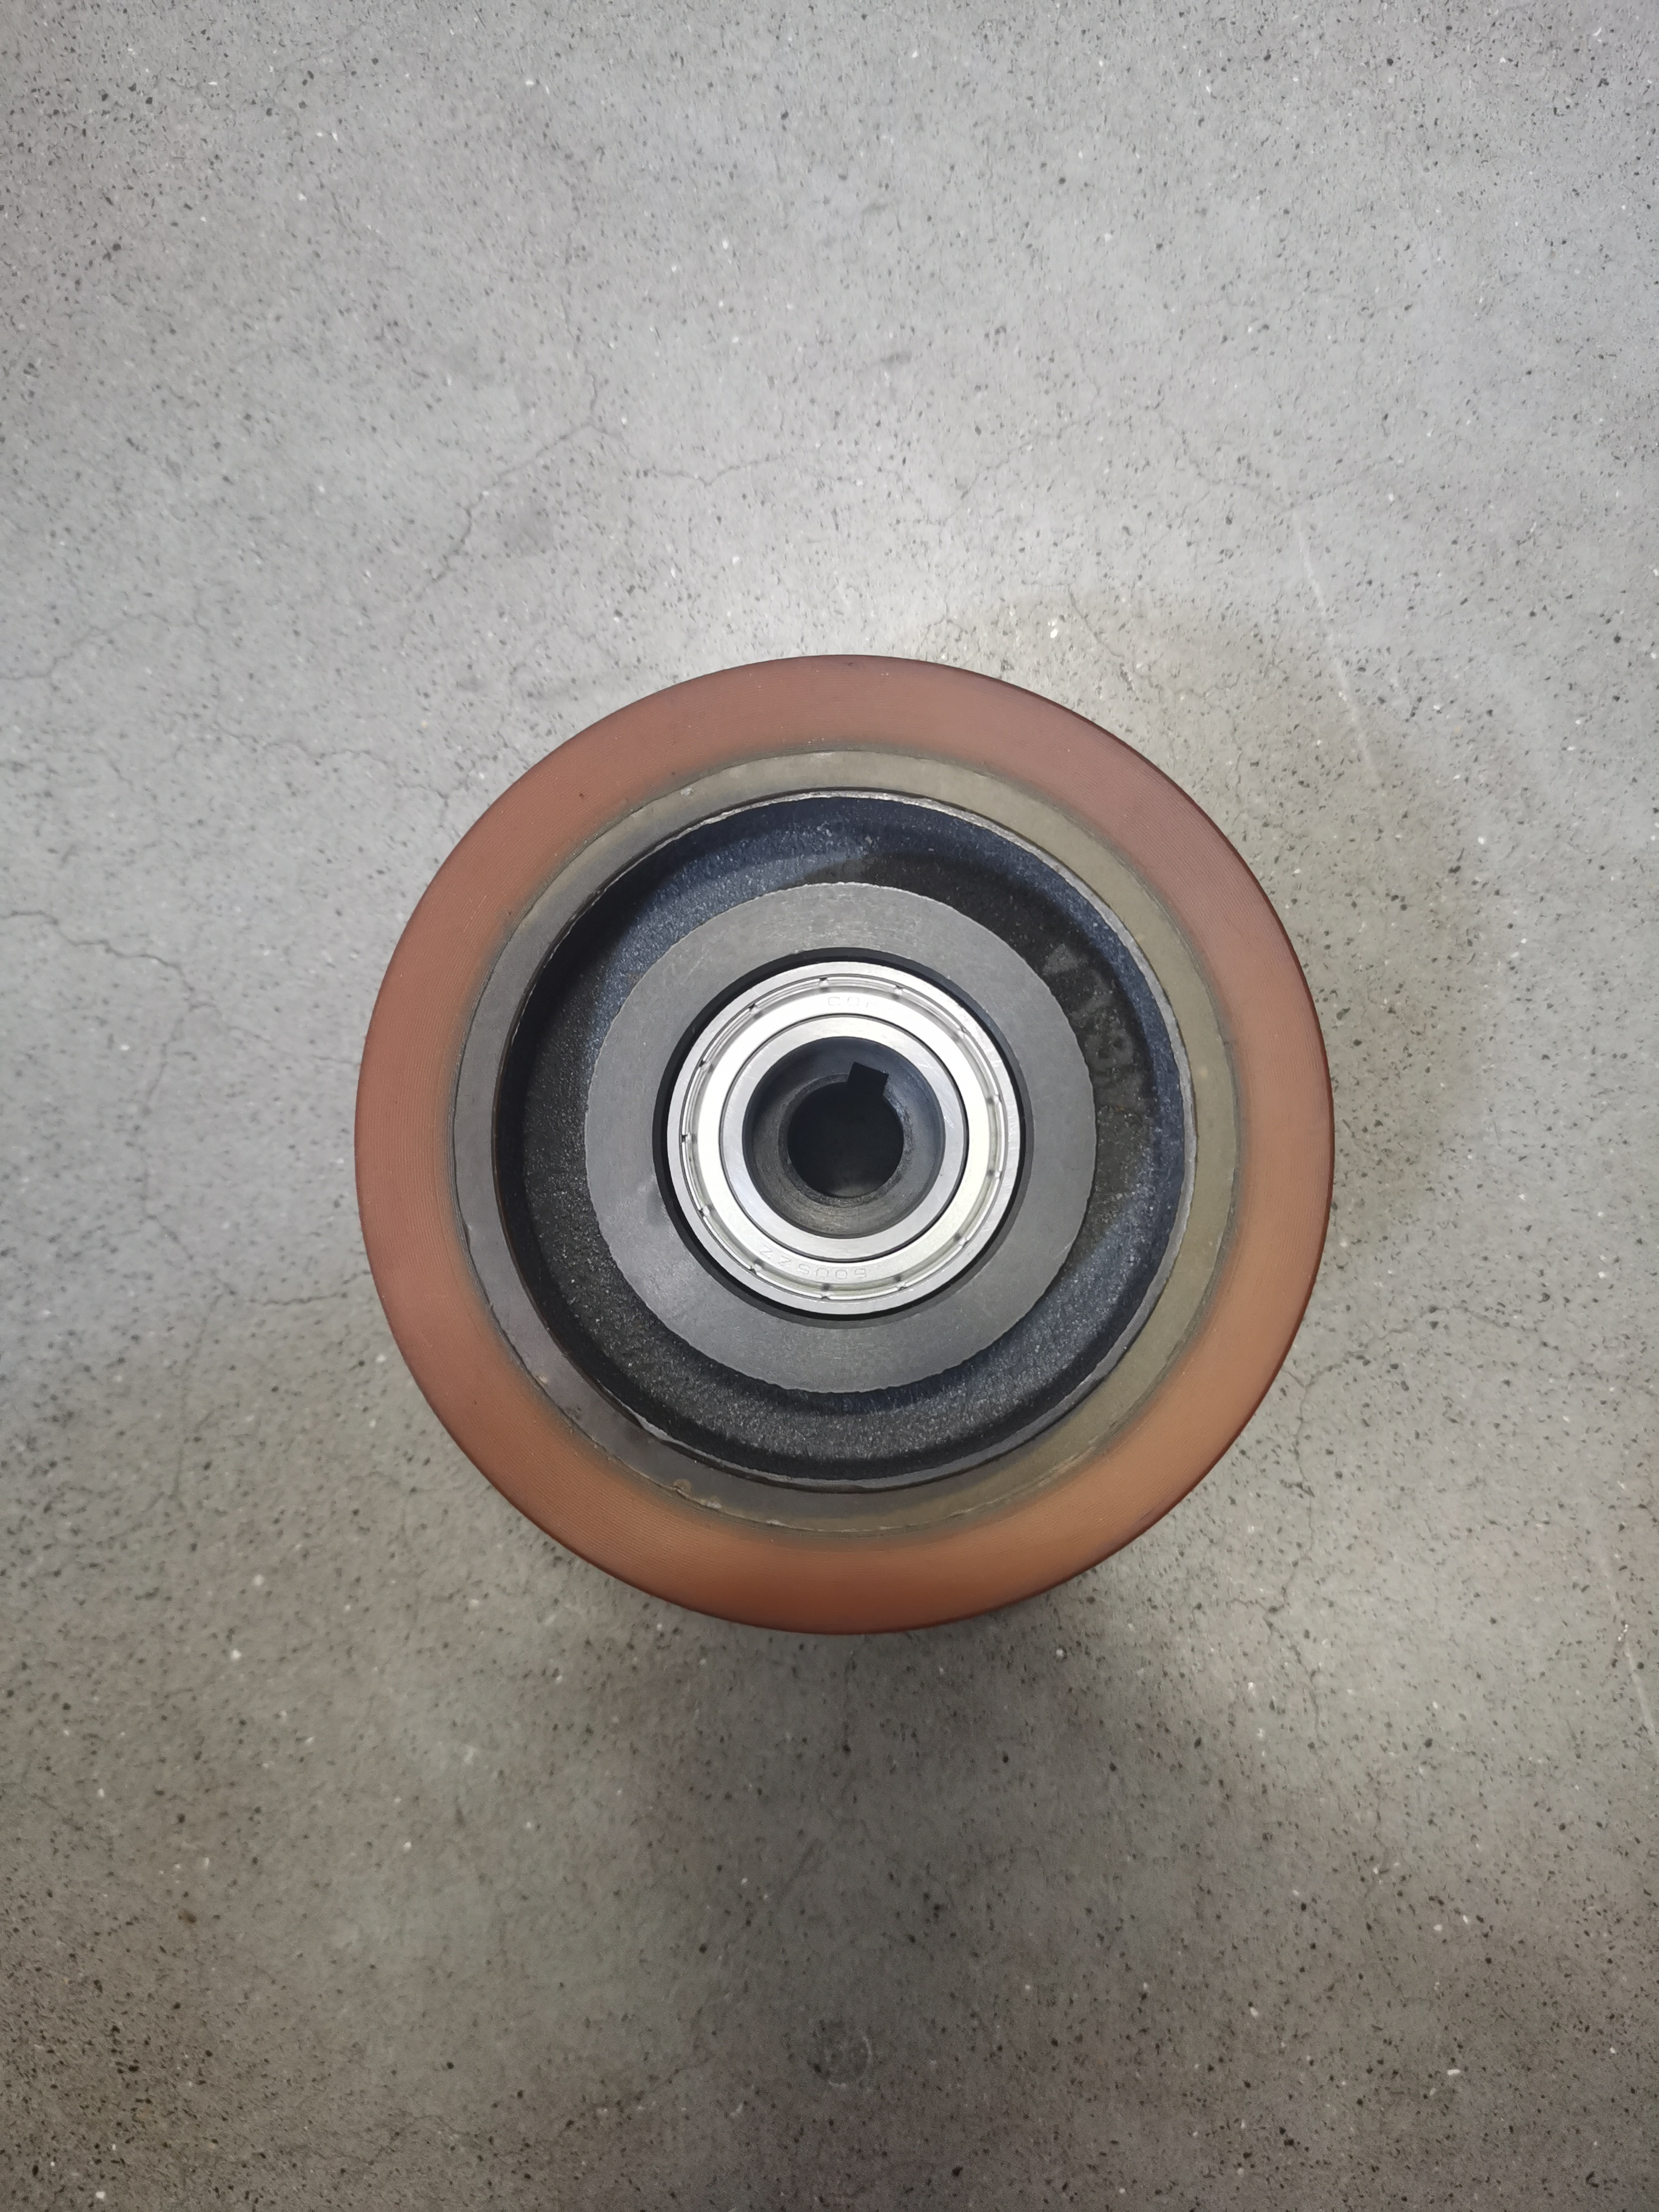good_wheel: (331, 603, 1363, 1649)
